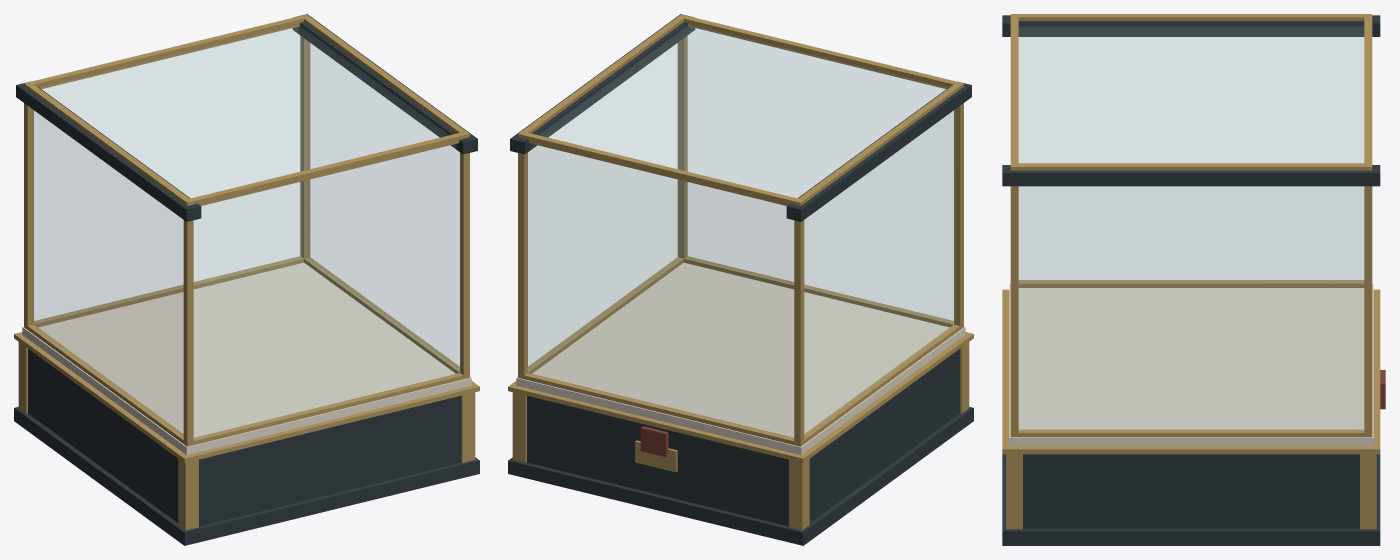
File: VIC_E03_CASE_PREMIUM_Roblox.fbx
3 renders of one model, left to right at view 1: azimuth 30°, elevation 25°; view 2: azimuth 150°, elevation 25°; view 3: azimuth 270°, elevation 25°, orthographic. The views are drawn at different scales.
Visible parts, largest first — view 1: VIC_E03_CASE_PREMIUM__Glass, VIC_E03_CASE_PREMIUM__Ivory, VIC_E03_CASE_PREMIUM__Charcoal, VIC_E03_CASE_PREMIUM__Brass; view 2: VIC_E03_CASE_PREMIUM__Glass, VIC_E03_CASE_PREMIUM__Ivory, VIC_E03_CASE_PREMIUM__Charcoal, VIC_E03_CASE_PREMIUM__Brass, VIC_E03_CASE_PREMIUM__Oxblood; view 3: VIC_E03_CASE_PREMIUM__Glass, VIC_E03_CASE_PREMIUM__Ivory, VIC_E03_CASE_PREMIUM__Charcoal, VIC_E03_CASE_PREMIUM__Brass.
Part boxes in pixels (x1,y1,x2,y2): VIC_E03_CASE_PREMIUM__Glass: (32, 26, 460, 438); VIC_E03_CASE_PREMIUM__Ivory: (22, 262, 471, 454); VIC_E03_CASE_PREMIUM__Charcoal: (14, 14, 479, 545); VIC_E03_CASE_PREMIUM__Brass: (14, 14, 479, 530); VIC_E03_CASE_PREMIUM__Glass: (527, 25, 955, 437); VIC_E03_CASE_PREMIUM__Ivory: (516, 262, 965, 454); VIC_E03_CASE_PREMIUM__Charcoal: (508, 14, 973, 545); VIC_E03_CASE_PREMIUM__Brass: (508, 14, 973, 530); VIC_E03_CASE_PREMIUM__Oxblood: (640, 426, 668, 457); VIC_E03_CASE_PREMIUM__Glass: (1019, 27, 1363, 430); VIC_E03_CASE_PREMIUM__Ivory: (1009, 284, 1373, 446); VIC_E03_CASE_PREMIUM__Charcoal: (1002, 15, 1380, 545); VIC_E03_CASE_PREMIUM__Brass: (1002, 14, 1380, 529).
Bounding box in the file's own units: 5.6 × 6.14 × 5.68.
